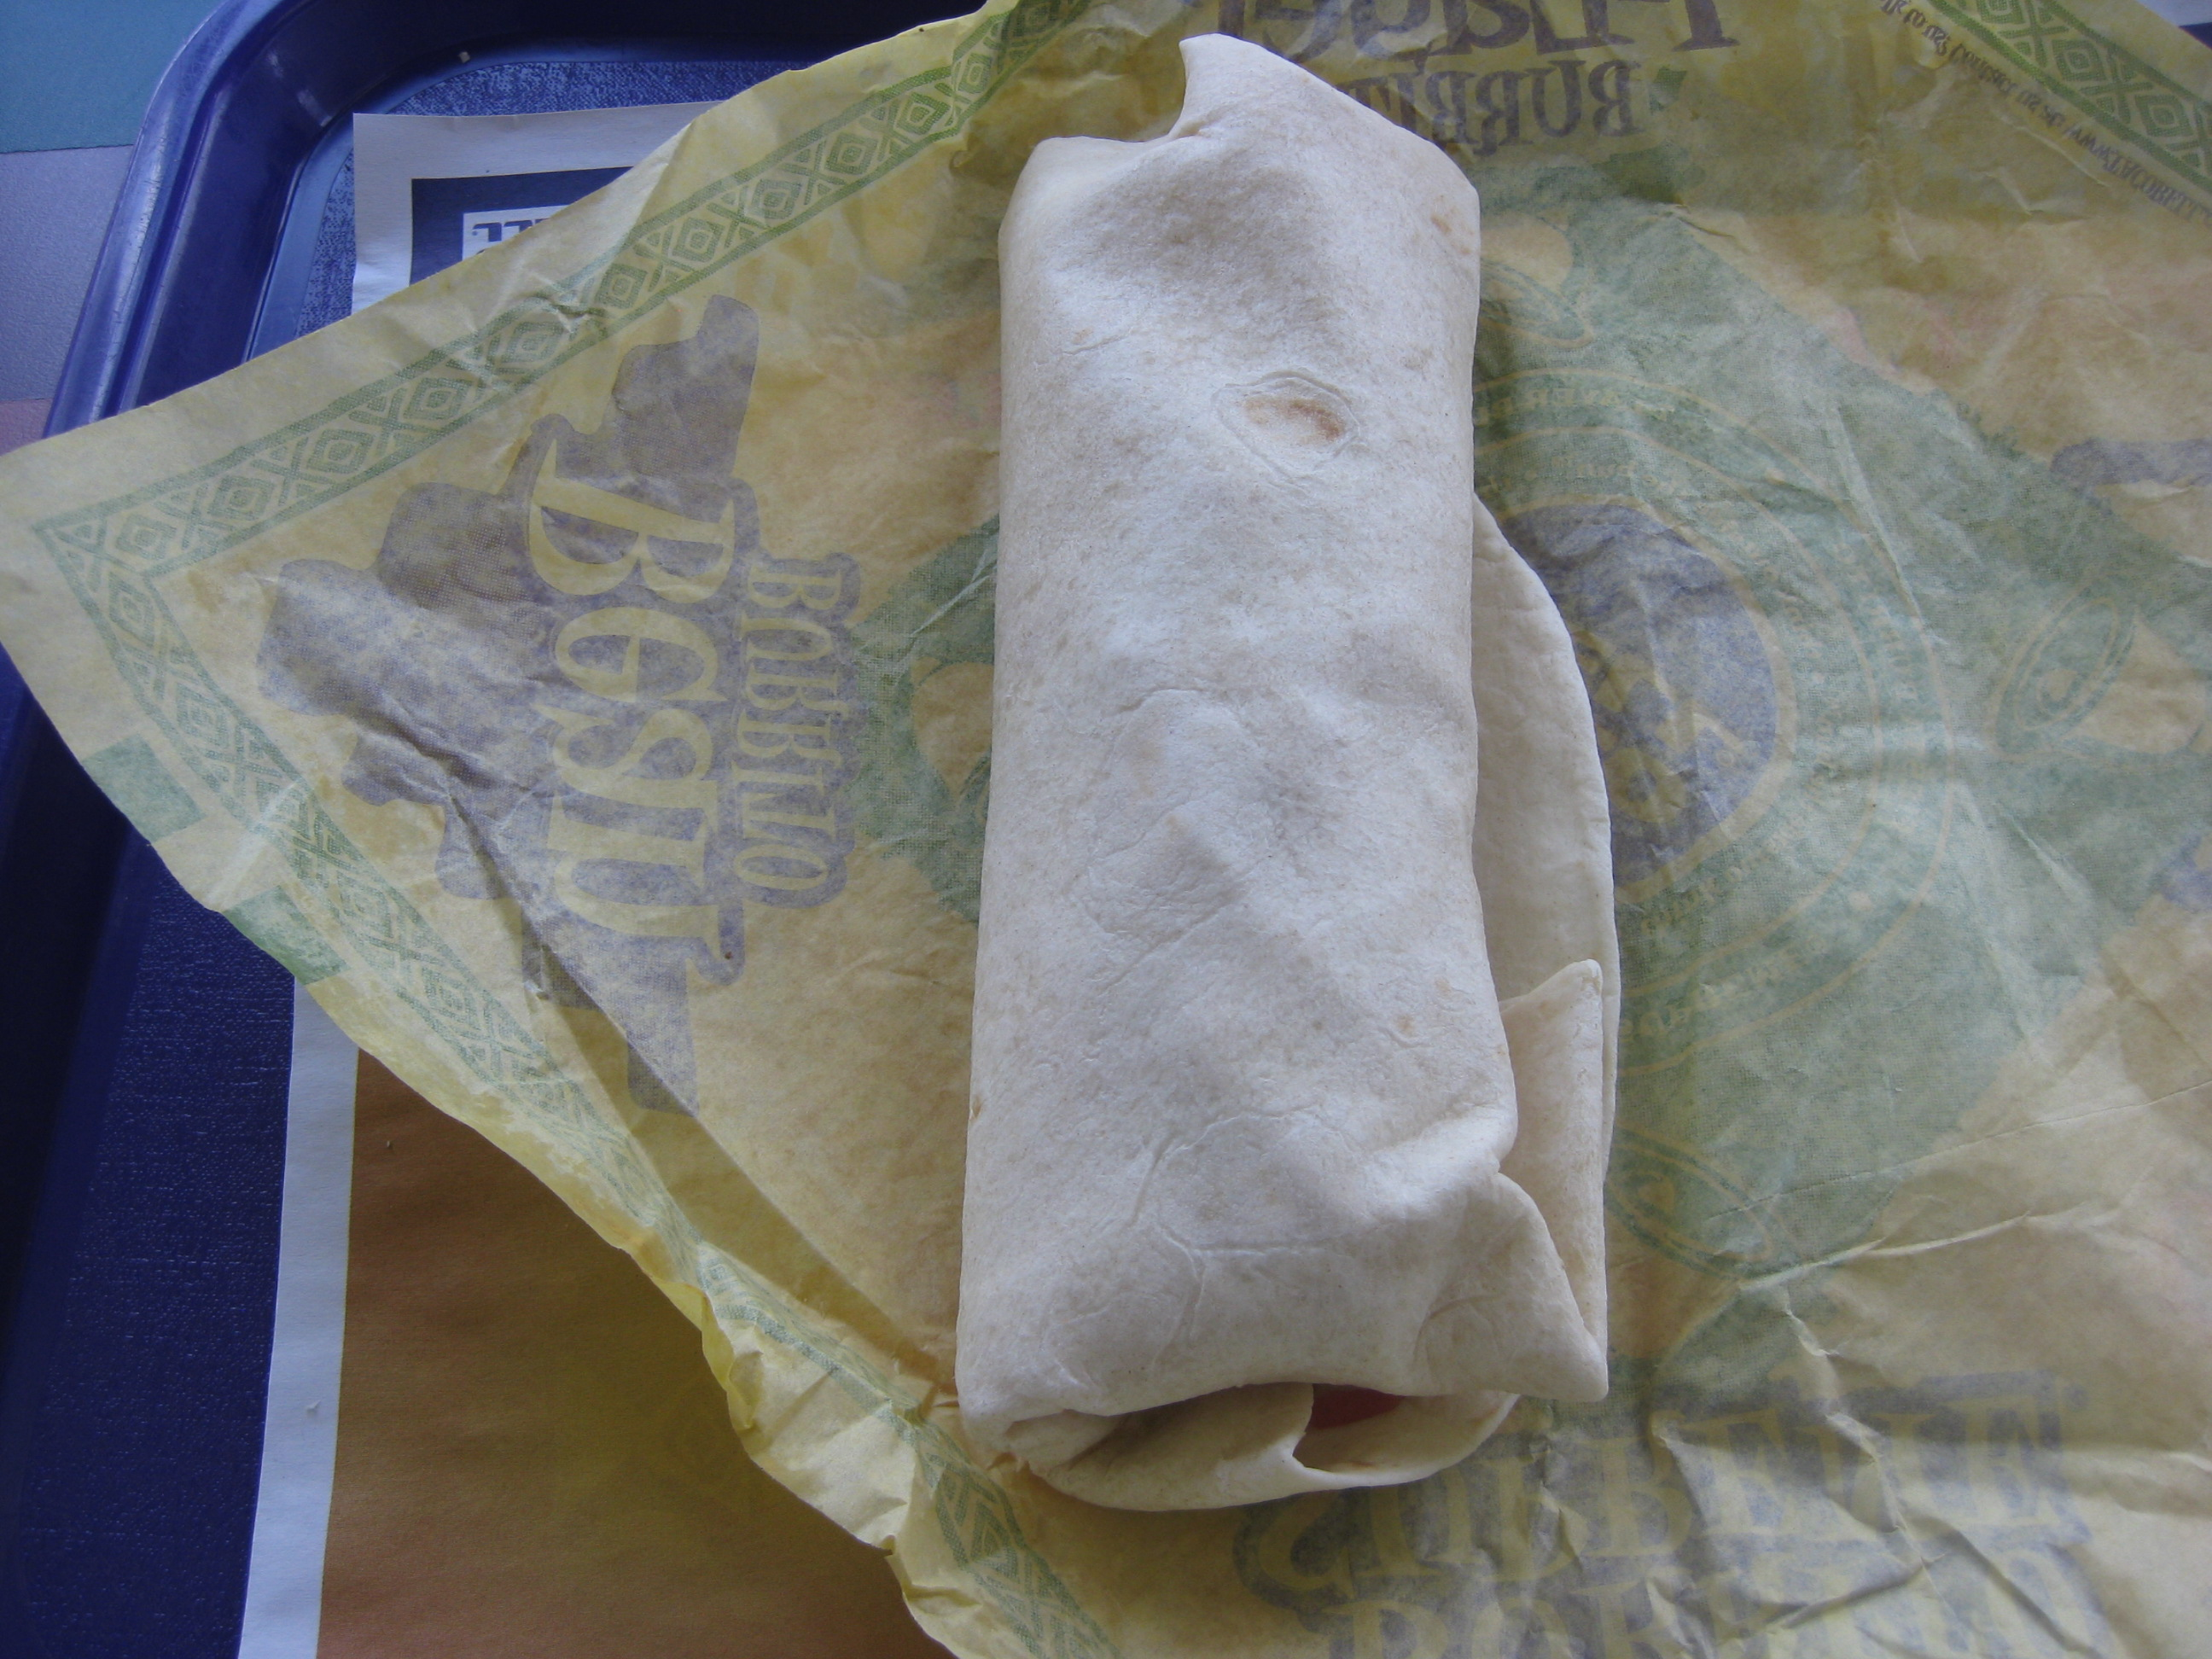burrito: (923, 29, 1659, 1501)
